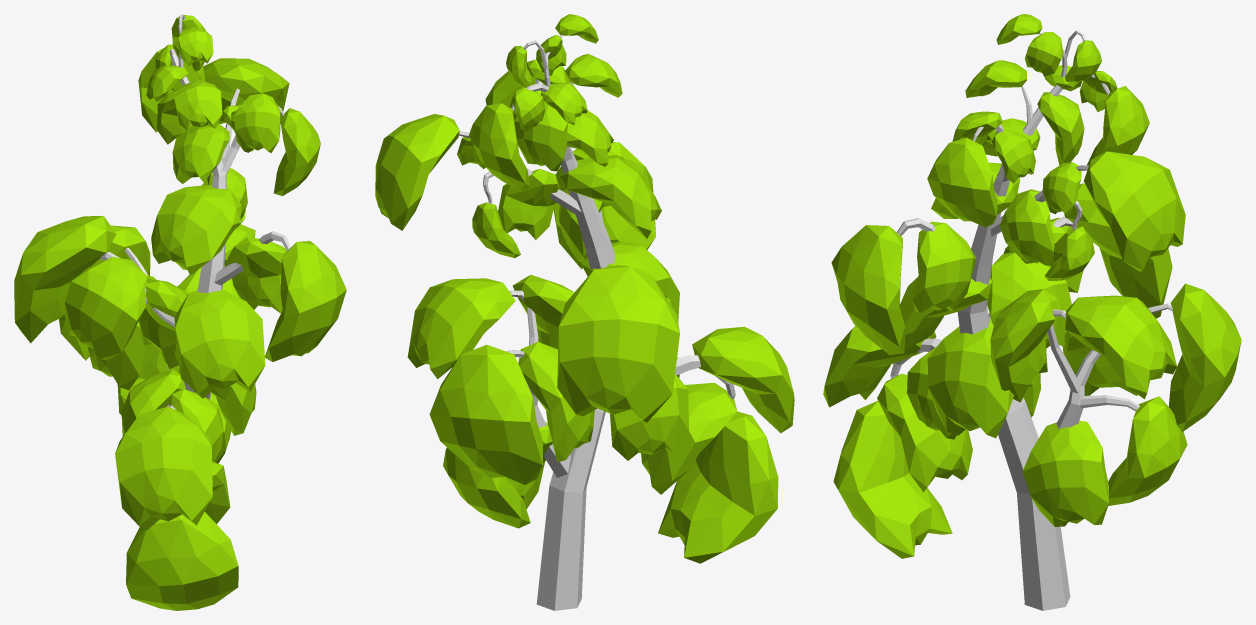
Rendered from Tree_8_v2.fbx.
3 renders of one model, left to right at view 1: azimuth 30°, elevation 25°; view 2: azimuth 150°, elevation 25°; view 3: azimuth 270°, elevation 25°, orthographic. The views are drawn at different scales.
Visible parts, largest first — view 1: tree_8_v2; view 2: tree_8_v2; view 3: tree_8_v2.
Boxes of the visible parts, box(x1,y1,x2,y2) form: tree_8_v2: box(14, 14, 346, 610); tree_8_v2: box(375, 14, 794, 610); tree_8_v2: box(823, 14, 1241, 610).
Bounding box in the file's own units: 278 × 517 × 336.
